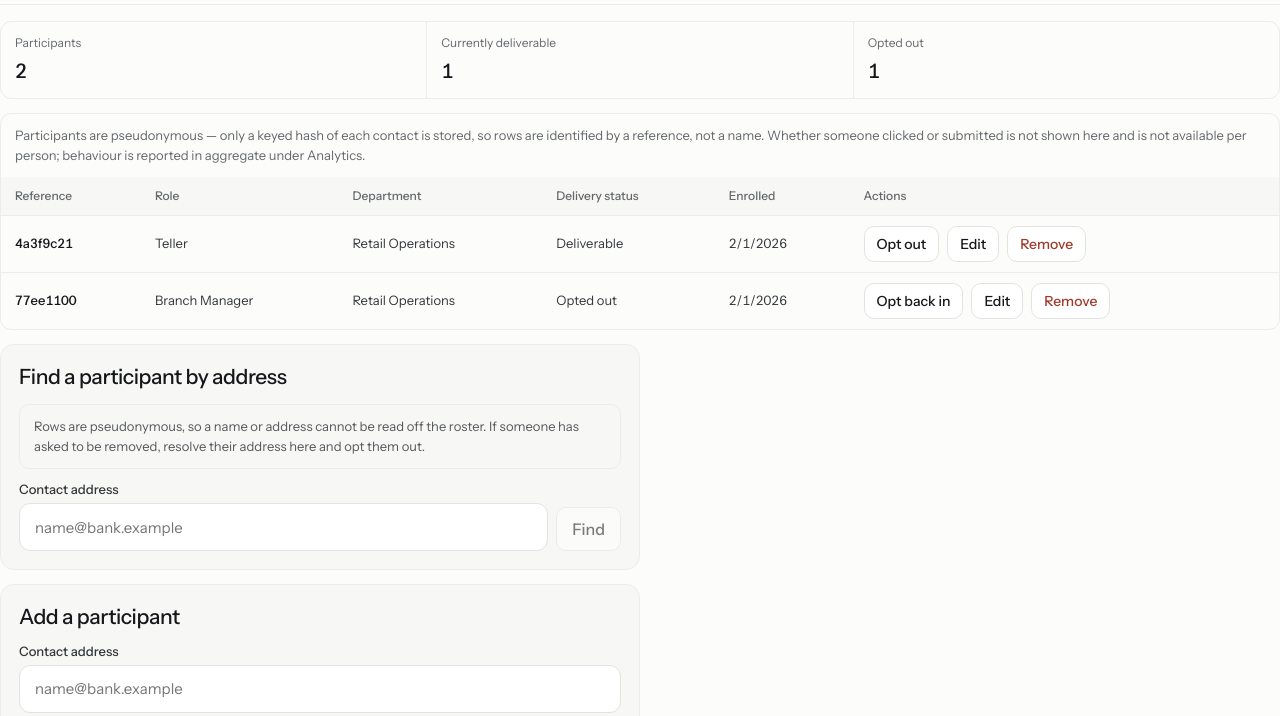
it: finding a participant by address › resolves the address and reports the match pseudonymously
Check: the element with test id "roster-summary" is shown, box [0,21,1279,99]
Type "adaeze@bank.test" into the field named "participant address to find".
click(284, 527); type("adaeze@bank.test")  # box [19,503,548,551]
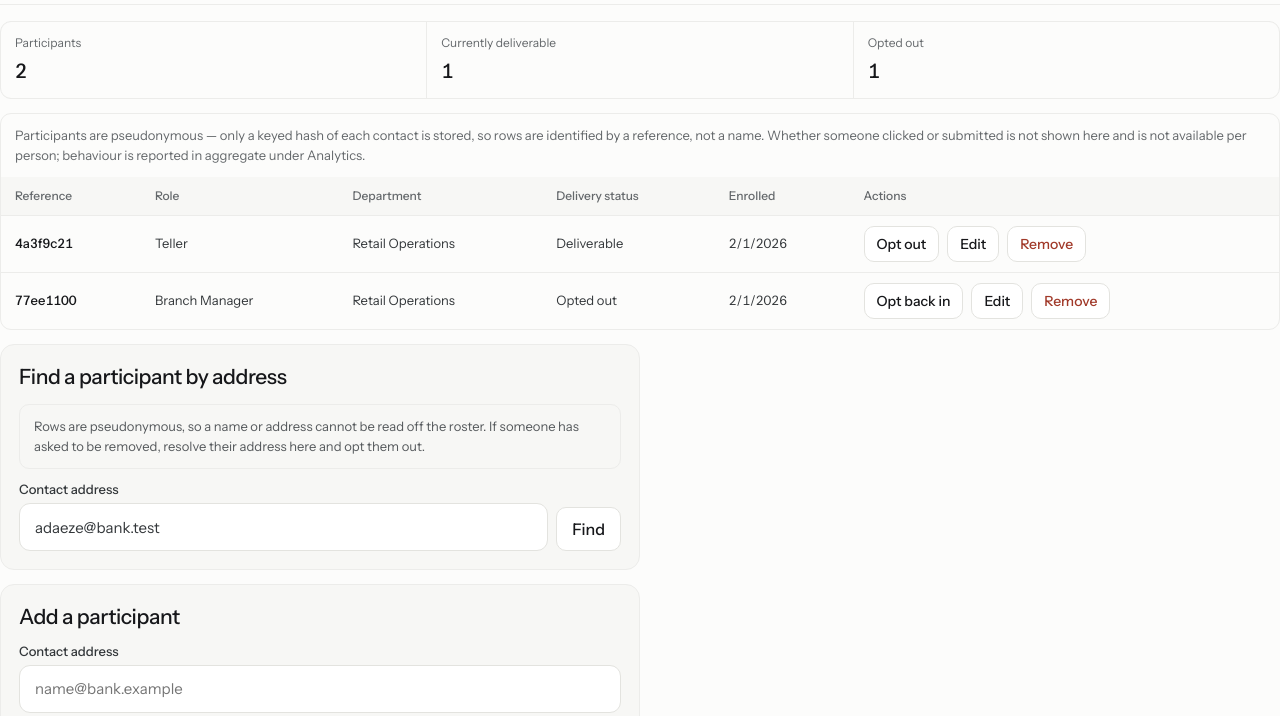
Click the button "Find".
click(589, 529)  # box [556,507,621,551]
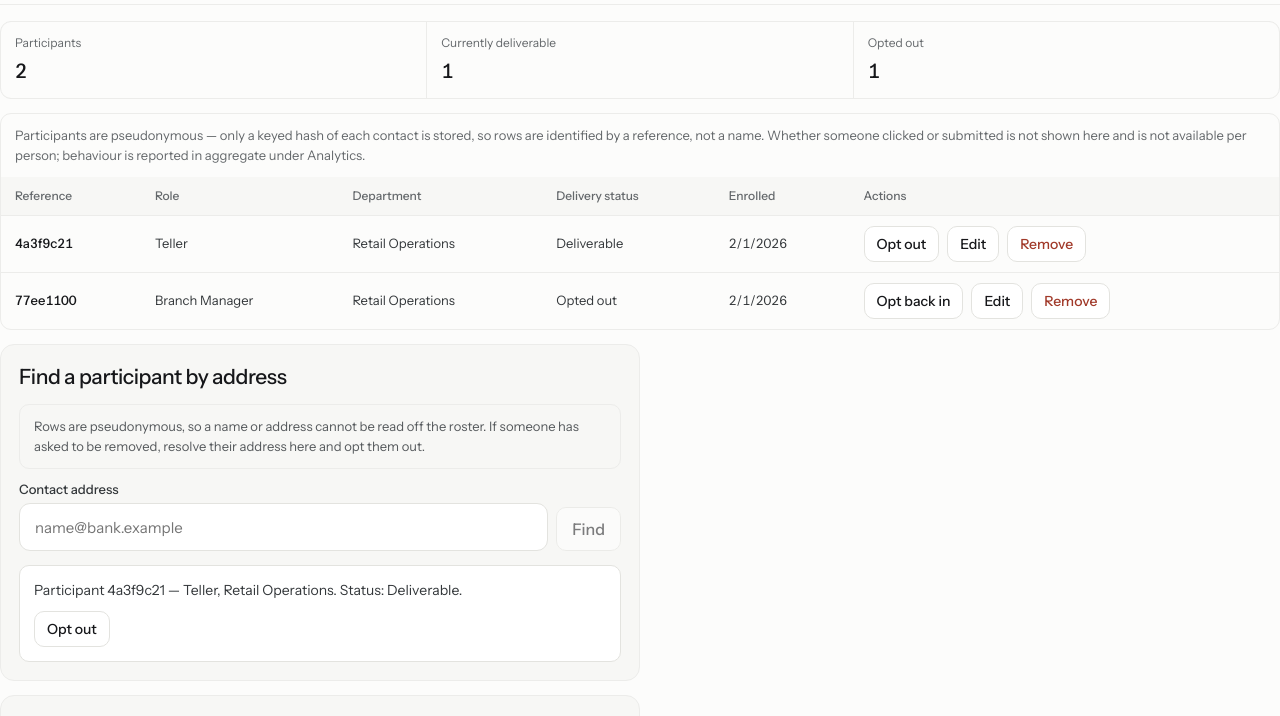
Check: the message "Participant 4a3f9c21 — Teller, Retail Operations. Status: Deliverable. Opt out" is shown, box [19,565,621,662]
Check: the message with test id "lookup-match" shows "4a3f9c21", box [107,581,165,599]
Check: the message with test id "lookup-match" shows "Teller", box [183,581,217,599]
